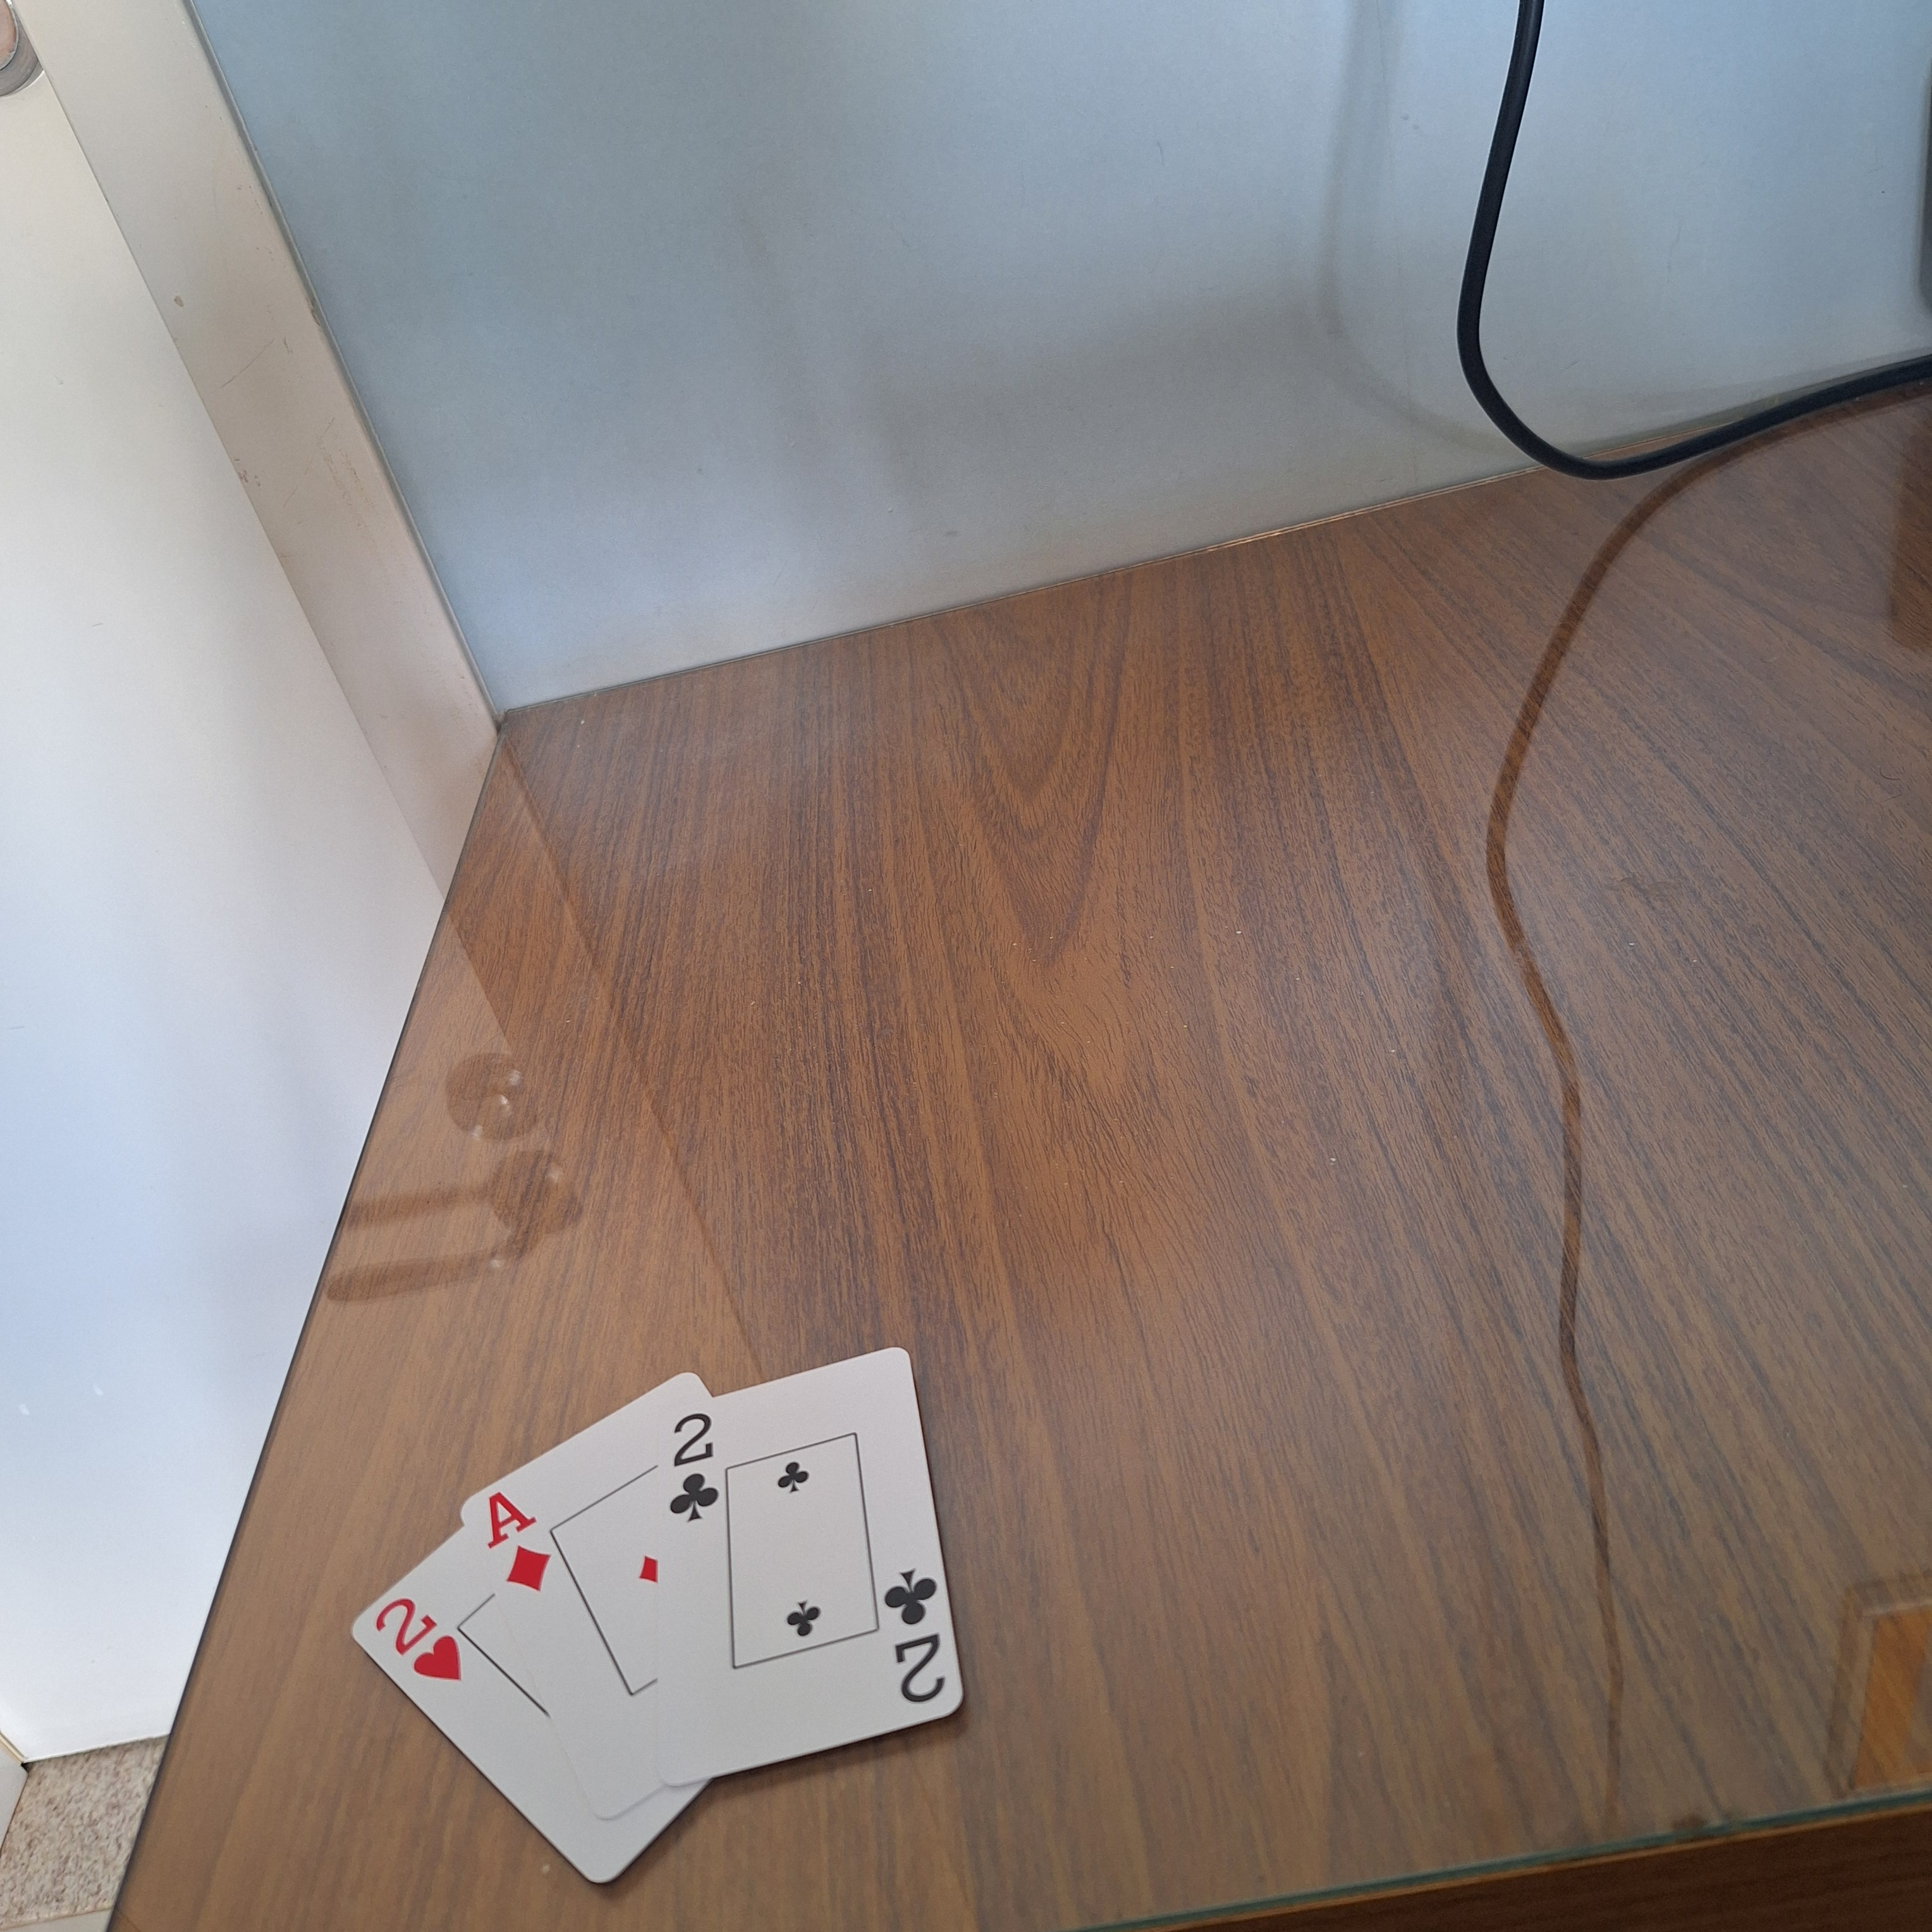2C: (364, 1591, 476, 1691)
2P: (870, 1559, 962, 1716), (653, 1403, 731, 1530)
AO: (472, 1479, 570, 1605)
